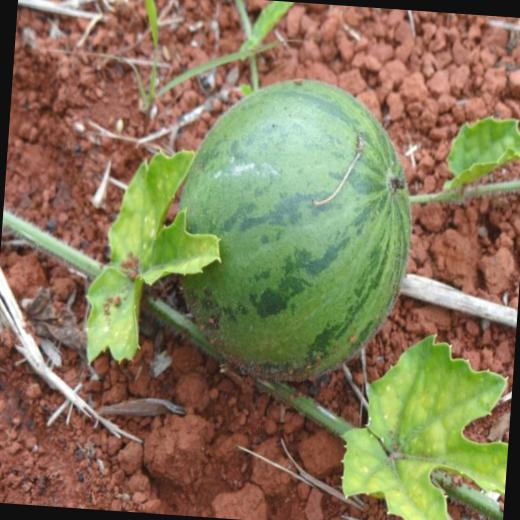Cherry: (167, 71, 420, 394)
